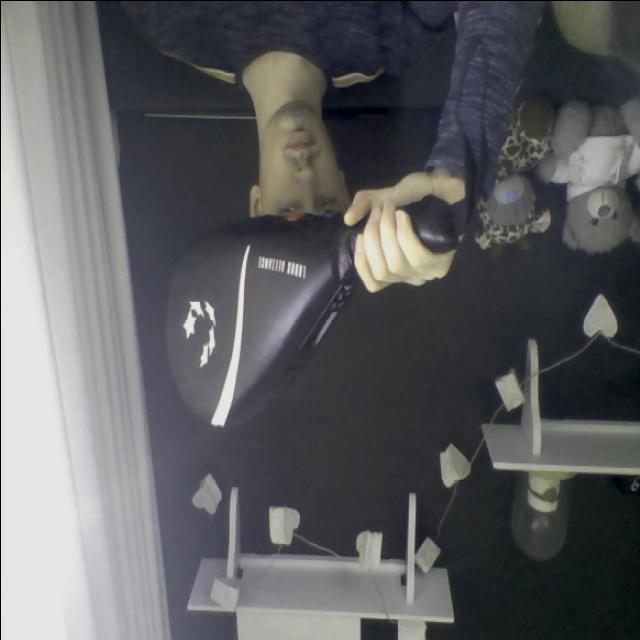paddle: (162, 216, 356, 433)
